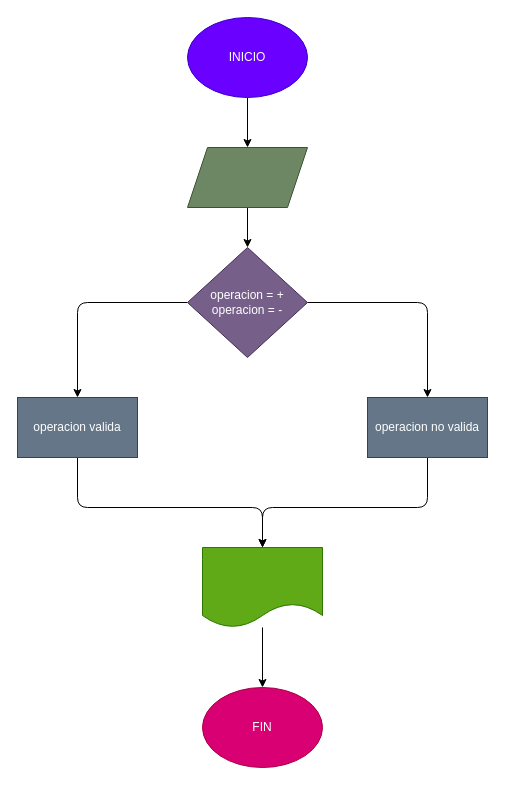
Image size: 505x785. Some labels were removed from this diagram. Here are the shapes that lost their labels. From the top down, the centre of each, then its label:
pixel 247 177: num1, num2
pixel 262 587: resultado operacion
